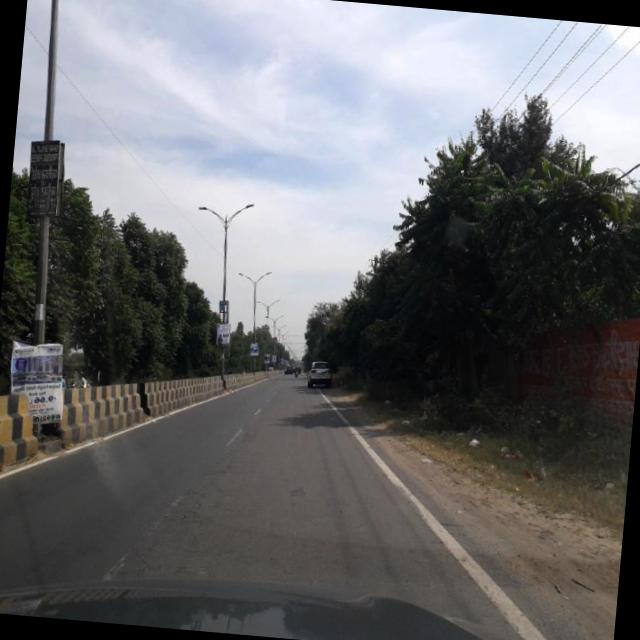crack: (132, 471, 230, 550)
